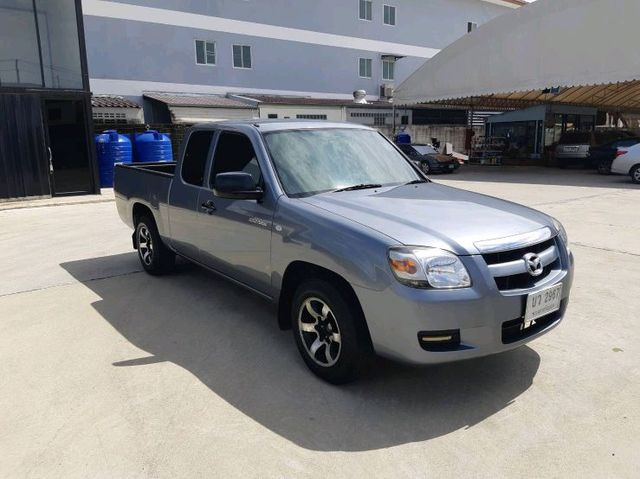pickup: (110, 116, 578, 386)
